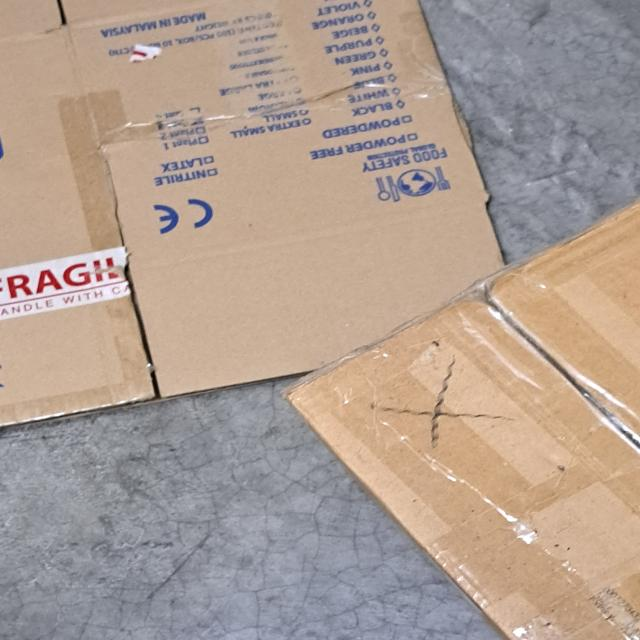cardboard: (0, 0, 501, 425), (290, 197, 640, 640)
